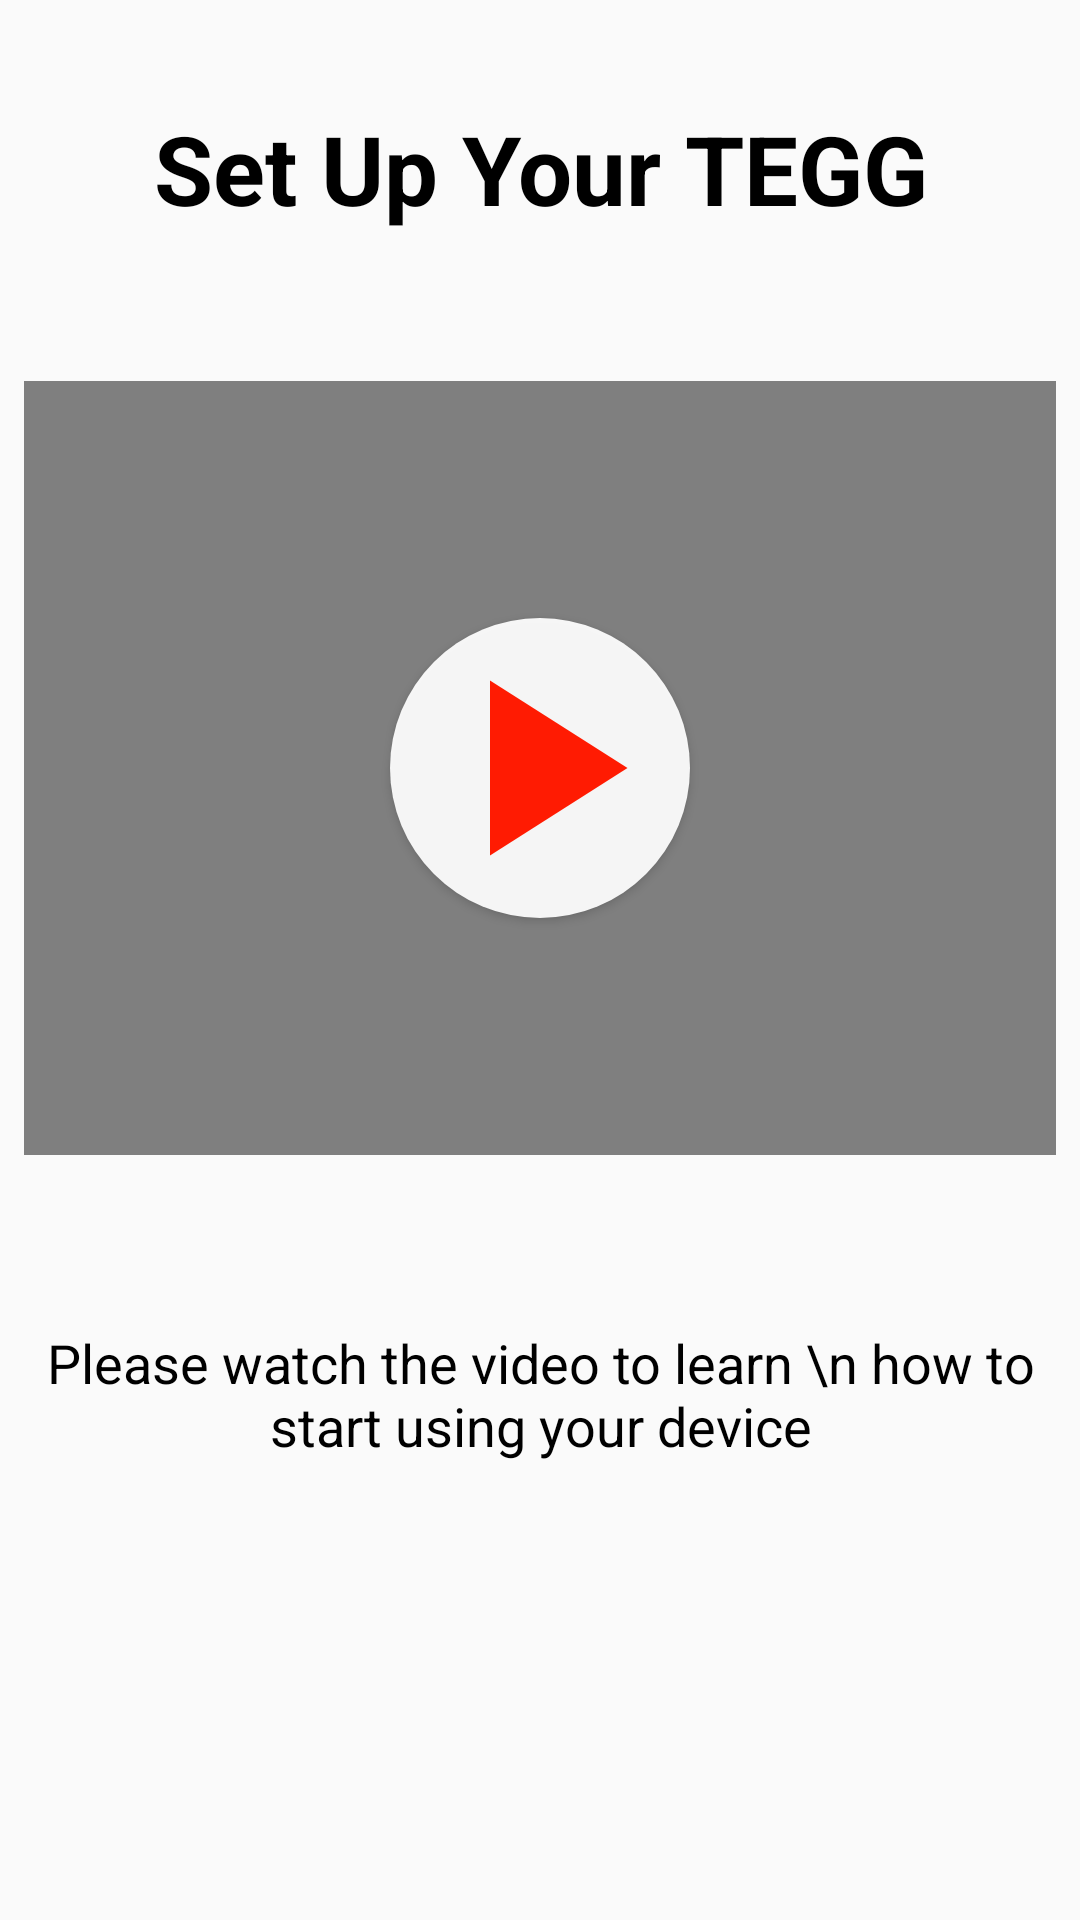

Icons on this 1080 x 1920 Android screen, each with the point to tap as point (x, y):
roundbutton: point (540, 768)
